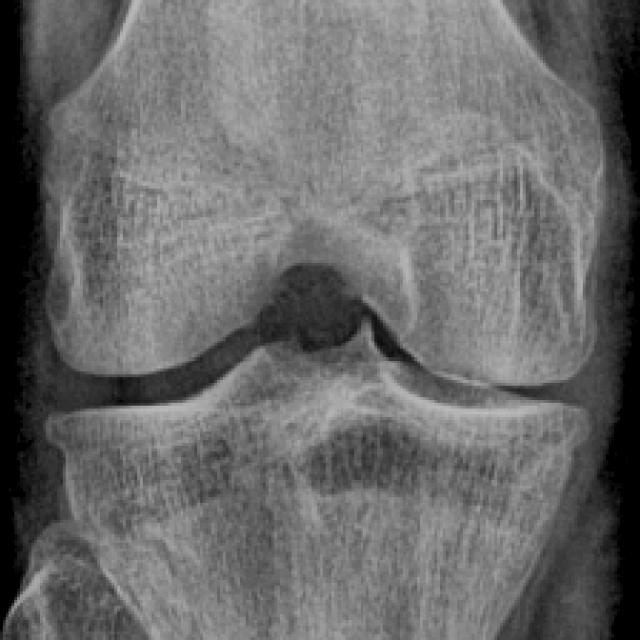femur: (39, 0, 606, 387)
tibia: (57, 331, 577, 639)
